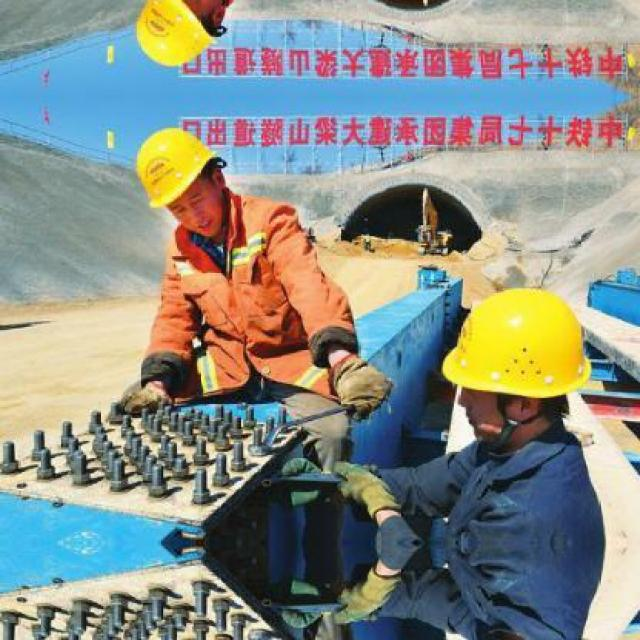Reflective-Jacket: (143, 198, 354, 406)
Safety-Helmet: (436, 282, 604, 404), (123, 122, 231, 217)
